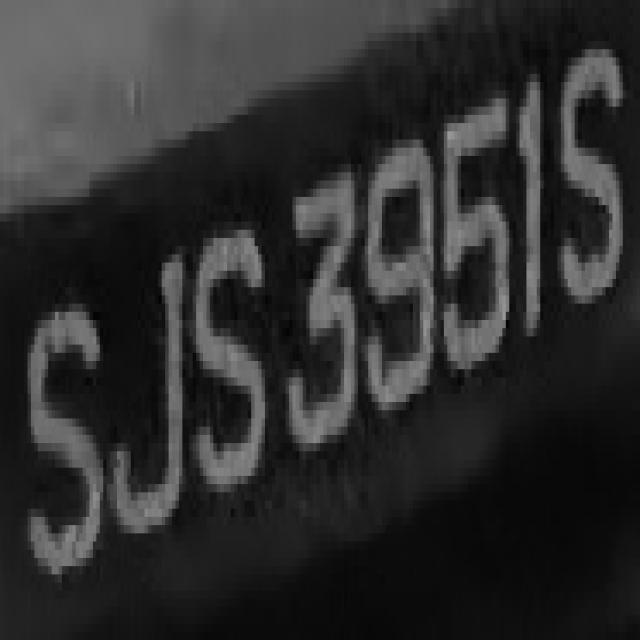1: (509, 57, 544, 353)
3: (276, 140, 362, 492)
5: (437, 90, 513, 386)
9: (368, 115, 447, 418)
J: (100, 230, 192, 566)
S: (17, 279, 107, 591), (190, 188, 276, 508), (547, 25, 626, 312)
